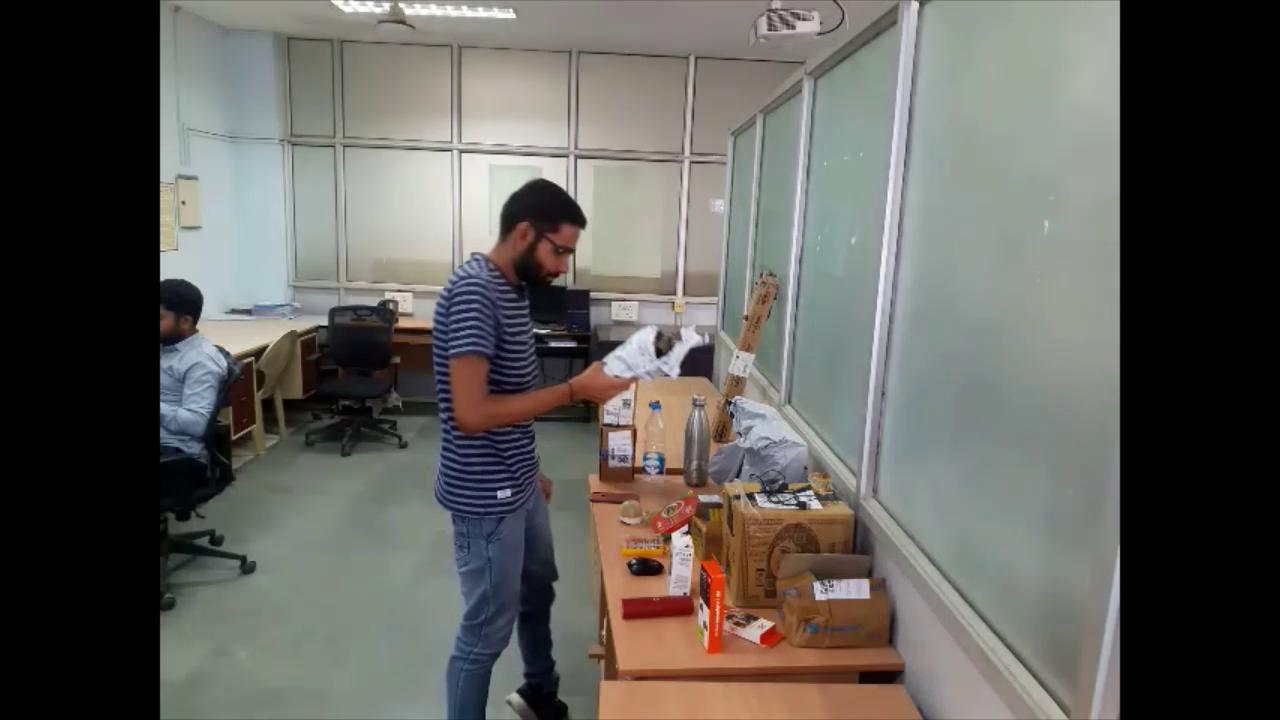Normal: (425, 175, 673, 720)
